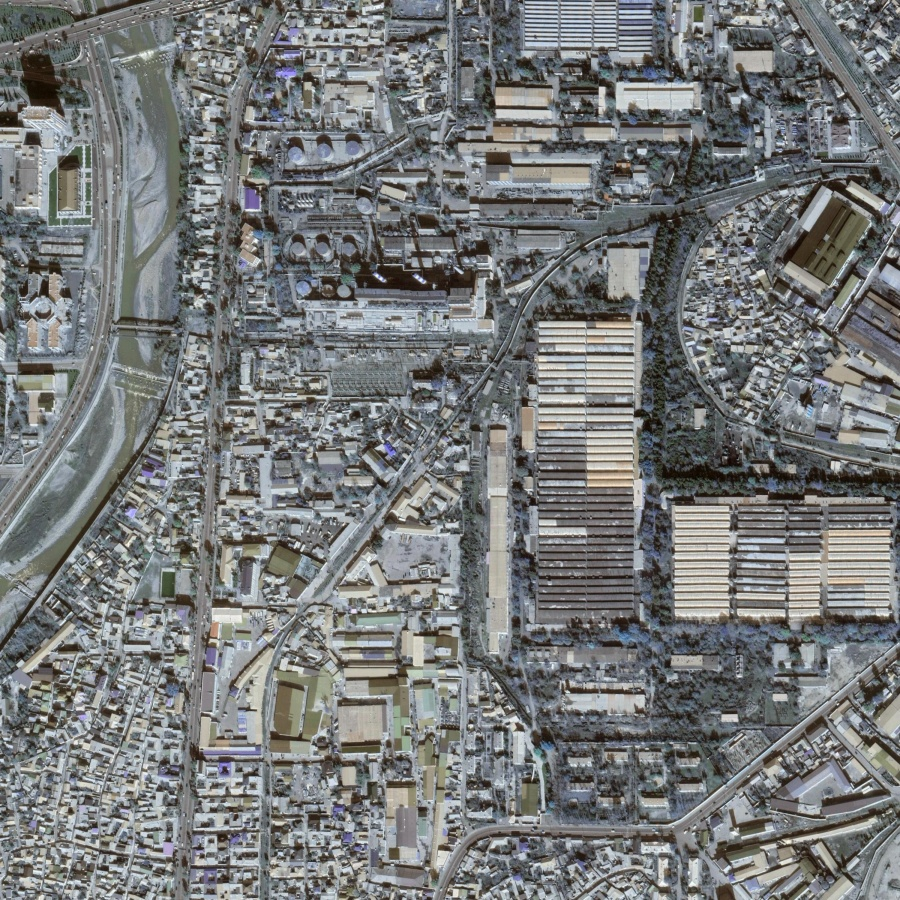PowerPlant: (278, 187, 499, 398)
